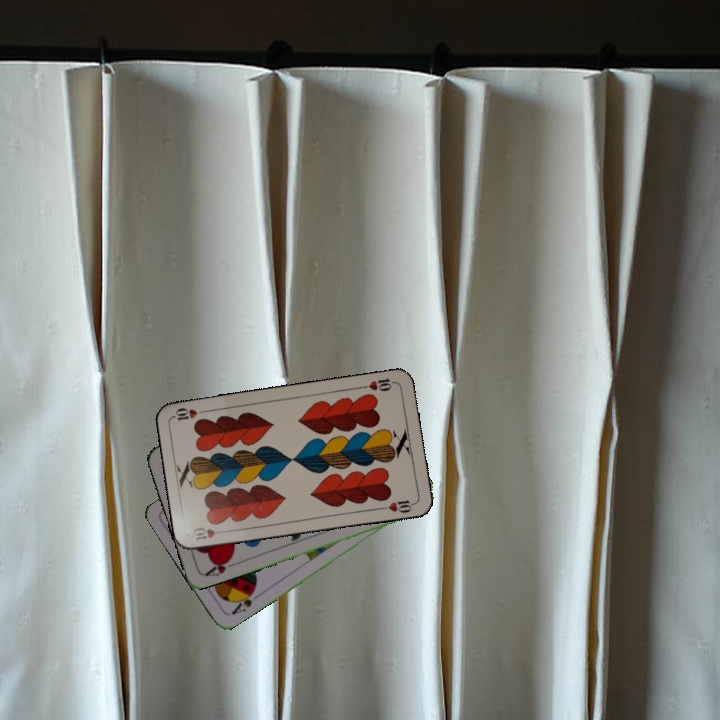H10: (357, 374, 398, 394), (189, 523, 229, 543)
HA: (200, 553, 240, 579)
SA: (227, 586, 262, 617)
